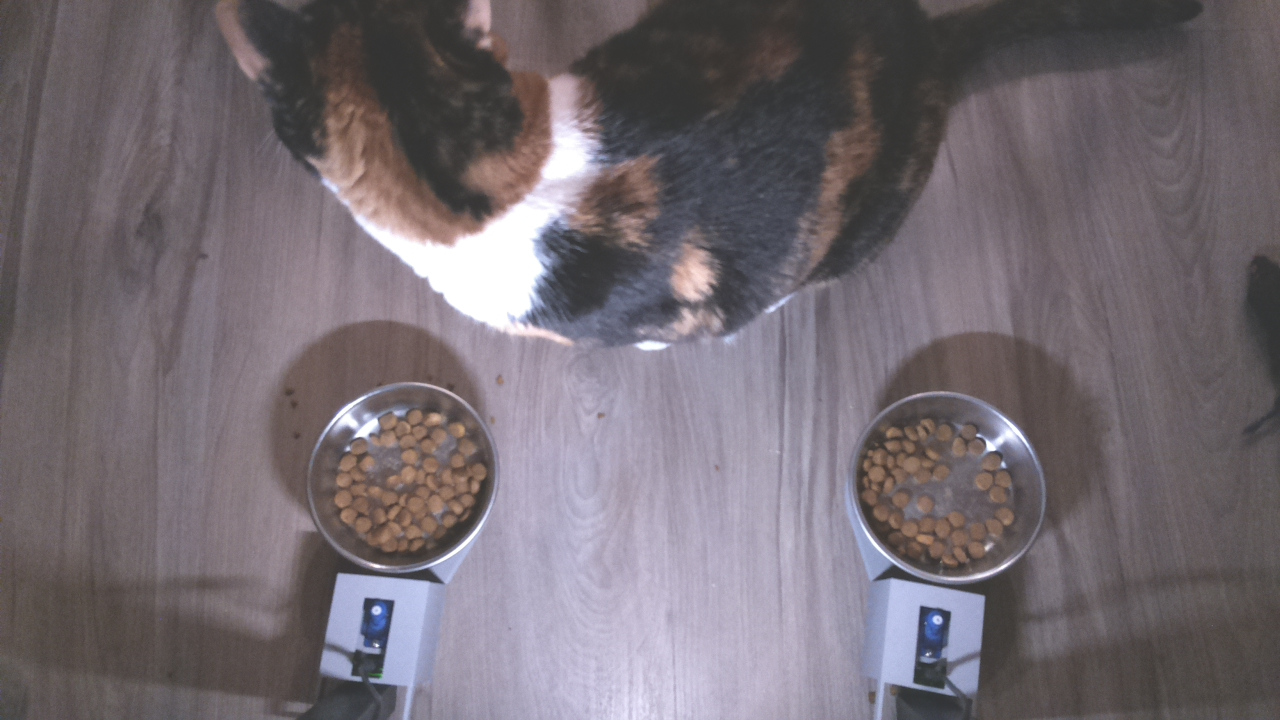bella: (174, 1, 549, 250)
open_bowl: (847, 384, 1050, 592), (302, 373, 495, 580)
